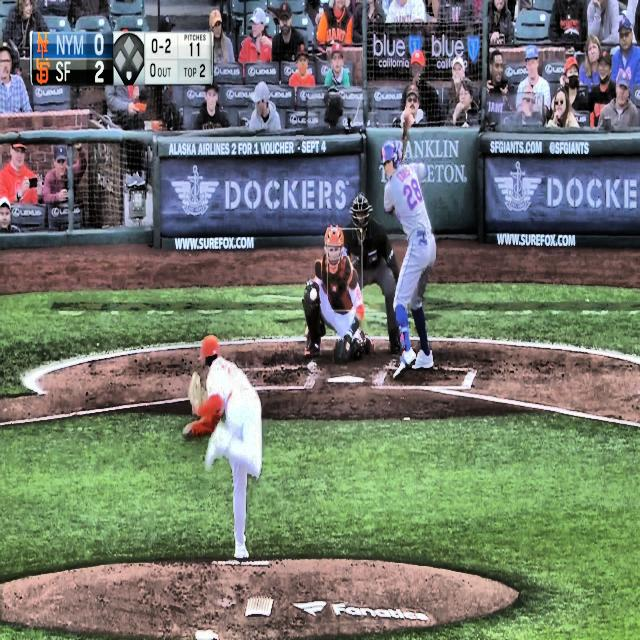baseball: (309, 288, 318, 302)
